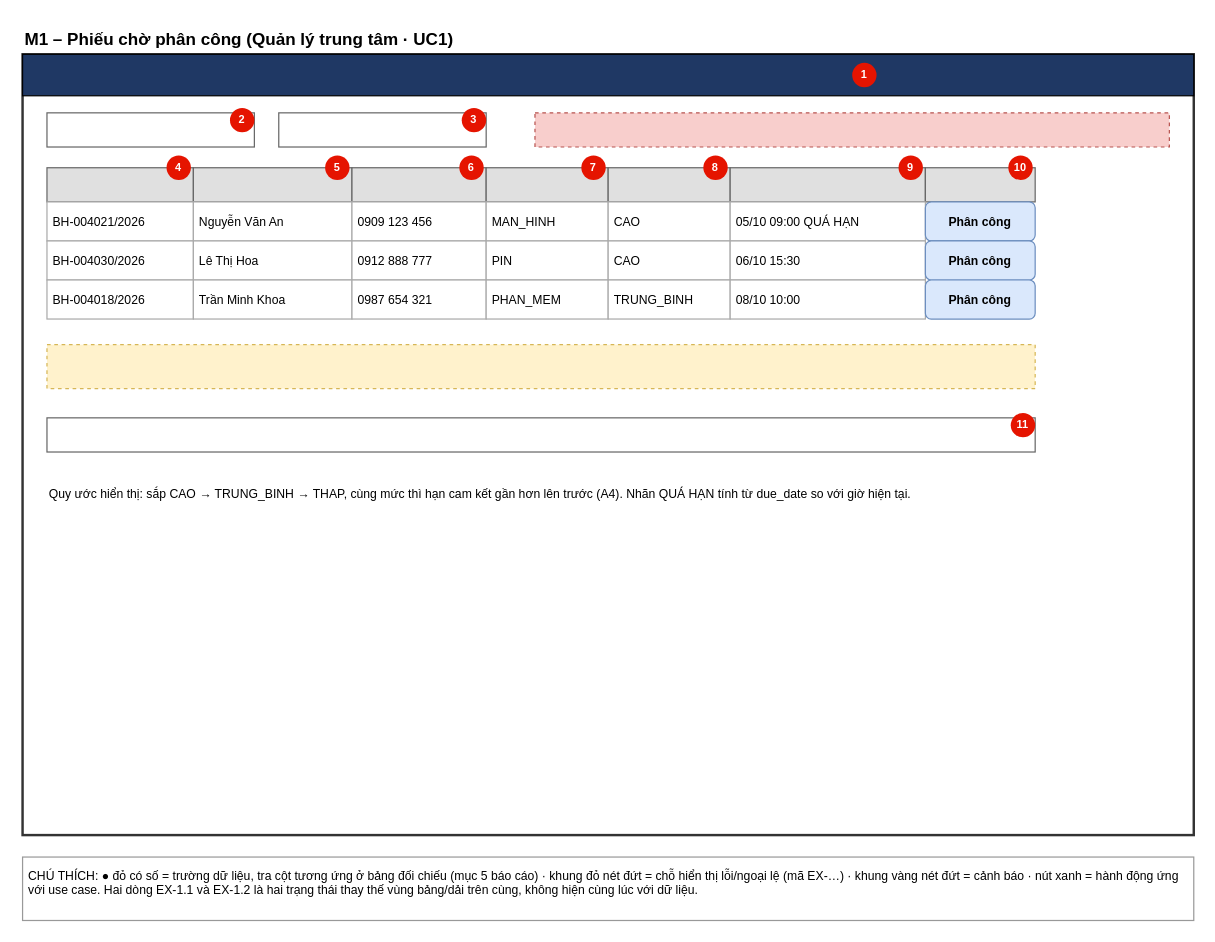
The diagram is 1215 pixels wide and 942 high, and some of its shapes have lost their labels. The box of each missing label's shape, as (x1, y1, x2, y2) in pixels:
EX-1.1 (danh sách rỗng): Không có phiếu chờ phân công: (46, 343, 1035, 389)
EX-1.2 (403): Bạn không có quyền xem phiếu của trung tâm này: (534, 112, 1169, 147)
Hạn cam kết: (729, 167, 925, 202)
Khách hàng: (192, 167, 352, 202)
Mã phiếu: (46, 167, 193, 202)
Mức ưu tiên: (607, 167, 730, 202)
Mức ưu tiên: [ Tất cả ▼ ]: (278, 112, 486, 147)
Nhóm sự cố: (485, 167, 608, 202)
Nhóm sự cố: [ Tất cả ▼ ]: (46, 112, 254, 147)
Smart CRM · Mekong Mobile Phiếu chờ phân công Trung tâm: Quận 10: (21, 53, 1194, 96)
Số điện thoại: (351, 167, 486, 202)
Thao tác: (924, 167, 1035, 202)
Tổng: 3 phiếu « Trước Trang 1/1 Sau » (20 dòng/trang): (46, 417, 1035, 452)
